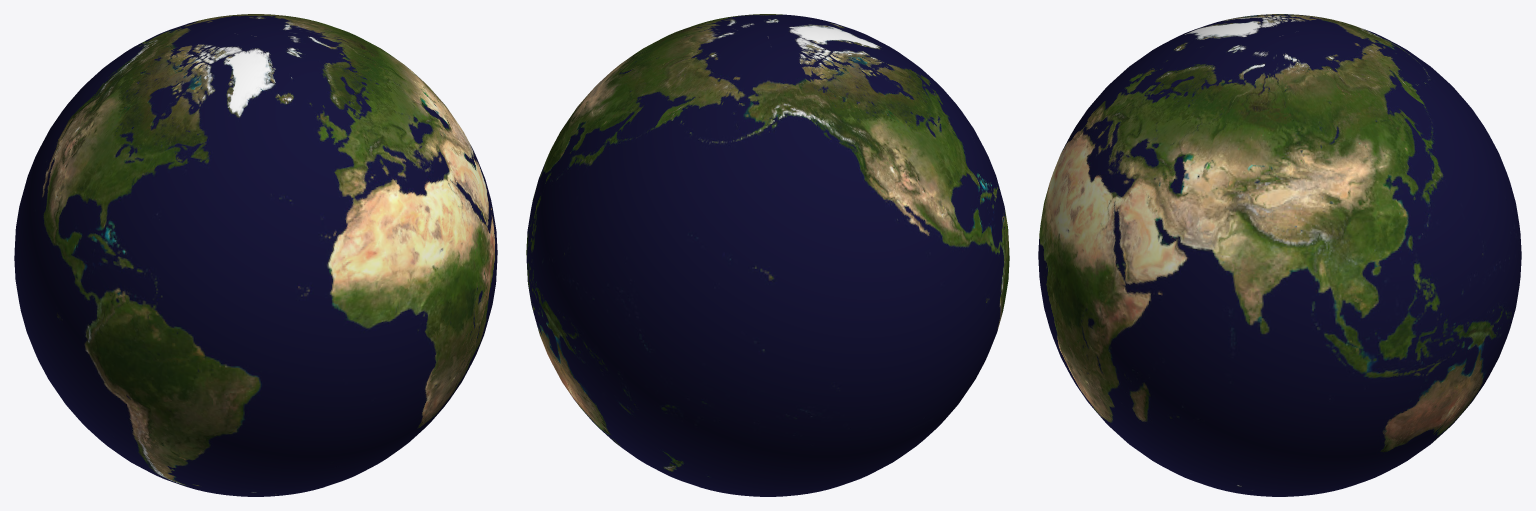
The model's file is world2.obj.
3 views of the same model, side by side, from view 1: azimuth 30°, elevation 25°; view 2: azimuth 150°, elevation 25°; view 3: azimuth 270°, elevation 25° (orthographic).
Parts seen in each view (by area): view 1: Globe_Sphere.001; view 2: Globe_Sphere.001; view 3: Globe_Sphere.001.
Part boxes in pixels (<box>): Globe_Sphere.001: <box>14,14,497,496</box>; Globe_Sphere.001: <box>526,14,1009,496</box>; Globe_Sphere.001: <box>1038,14,1521,496</box>.
Size of the model in its own units: 2 by 2 by 2.
